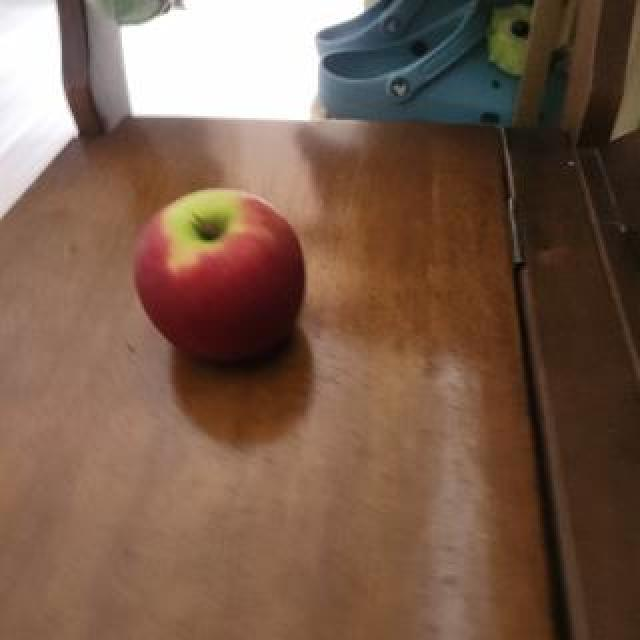Fresh Apple: (120, 185, 315, 368)
